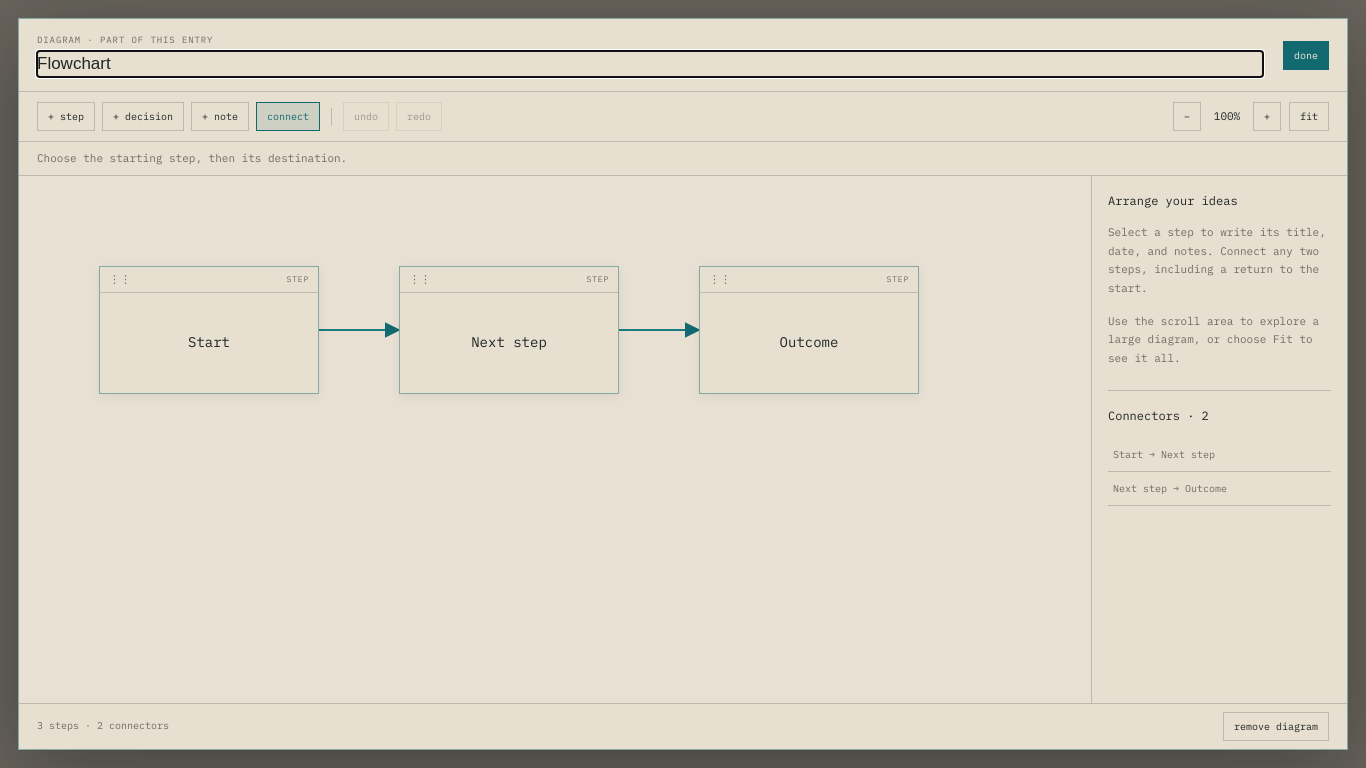
Scenario: diagram editing gestures and history › creates feedback and self-loop connectors and undoes step deletion with its edges
Earlier steps of the test are not shown.
Later steps or results of the test are not shown.
Click the button "Outcome" at point(809, 342), box 700,292 -> 918,392
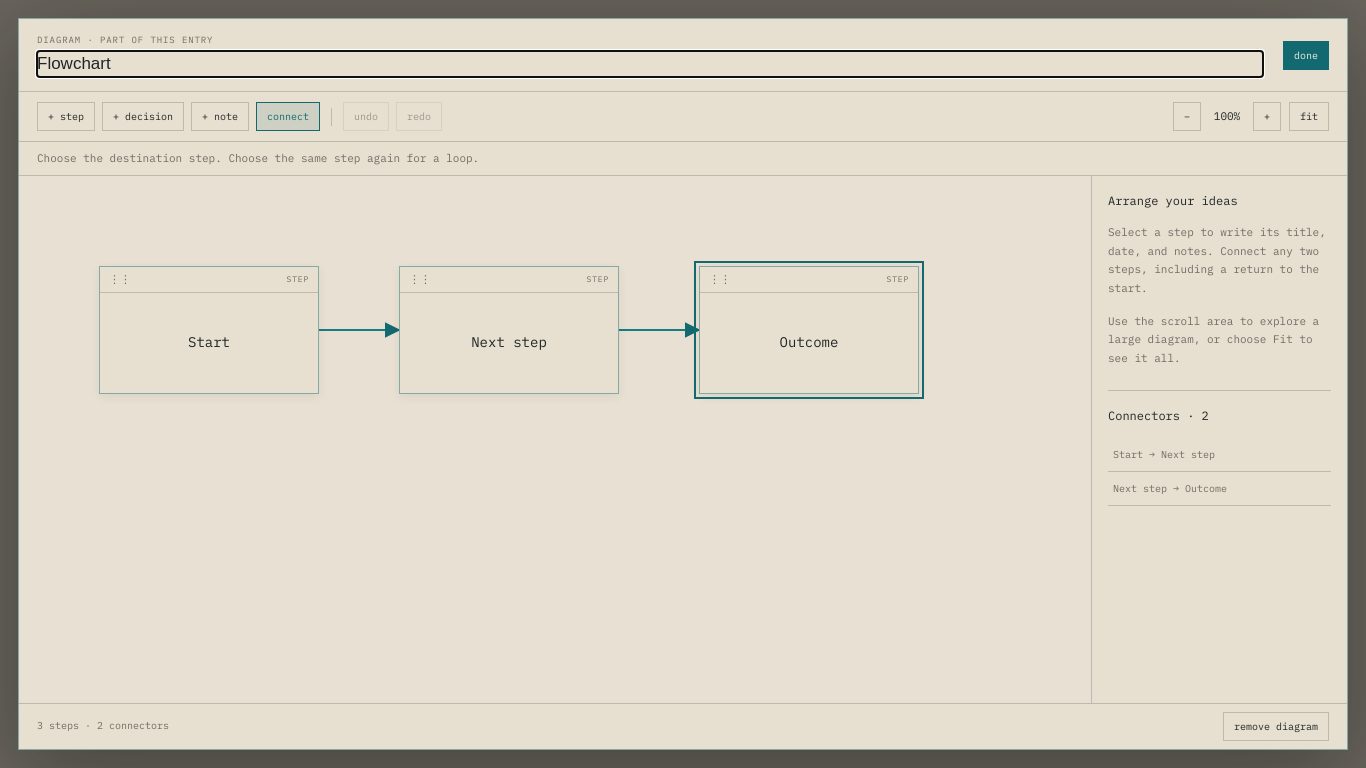
Click the button "Start" at point(209, 342), box 100,292 -> 318,392
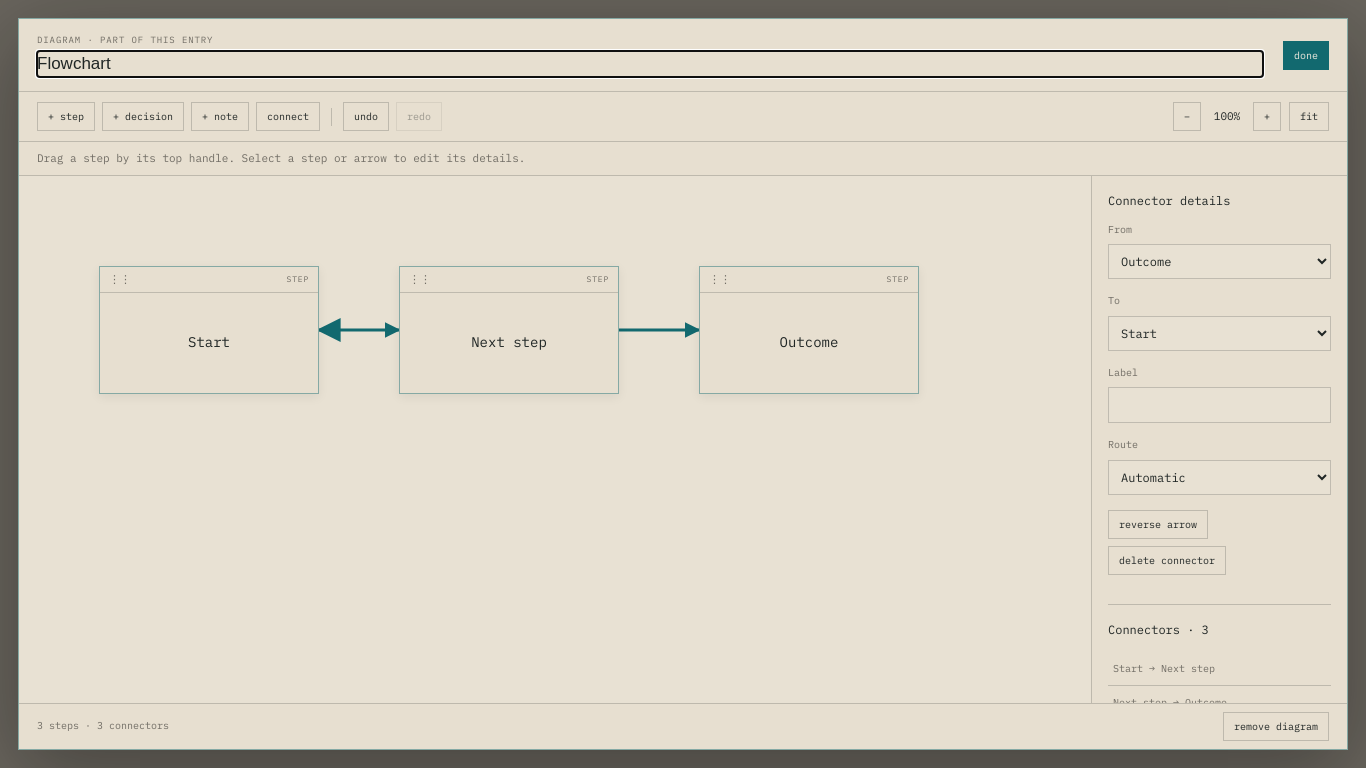
Click the button "connect" at point(288, 116), box 256,102 -> 320,131
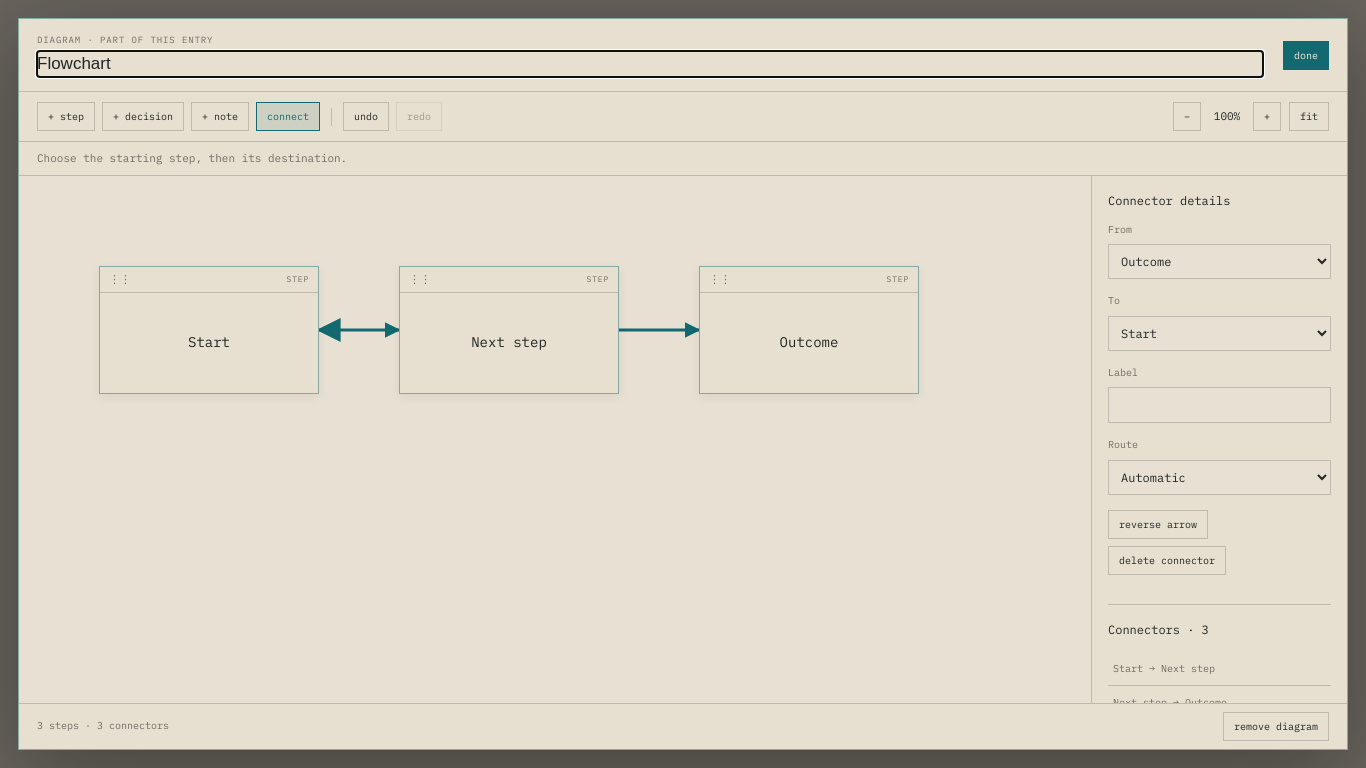
Click the button "Start" at point(209, 342), box 100,292 -> 318,392
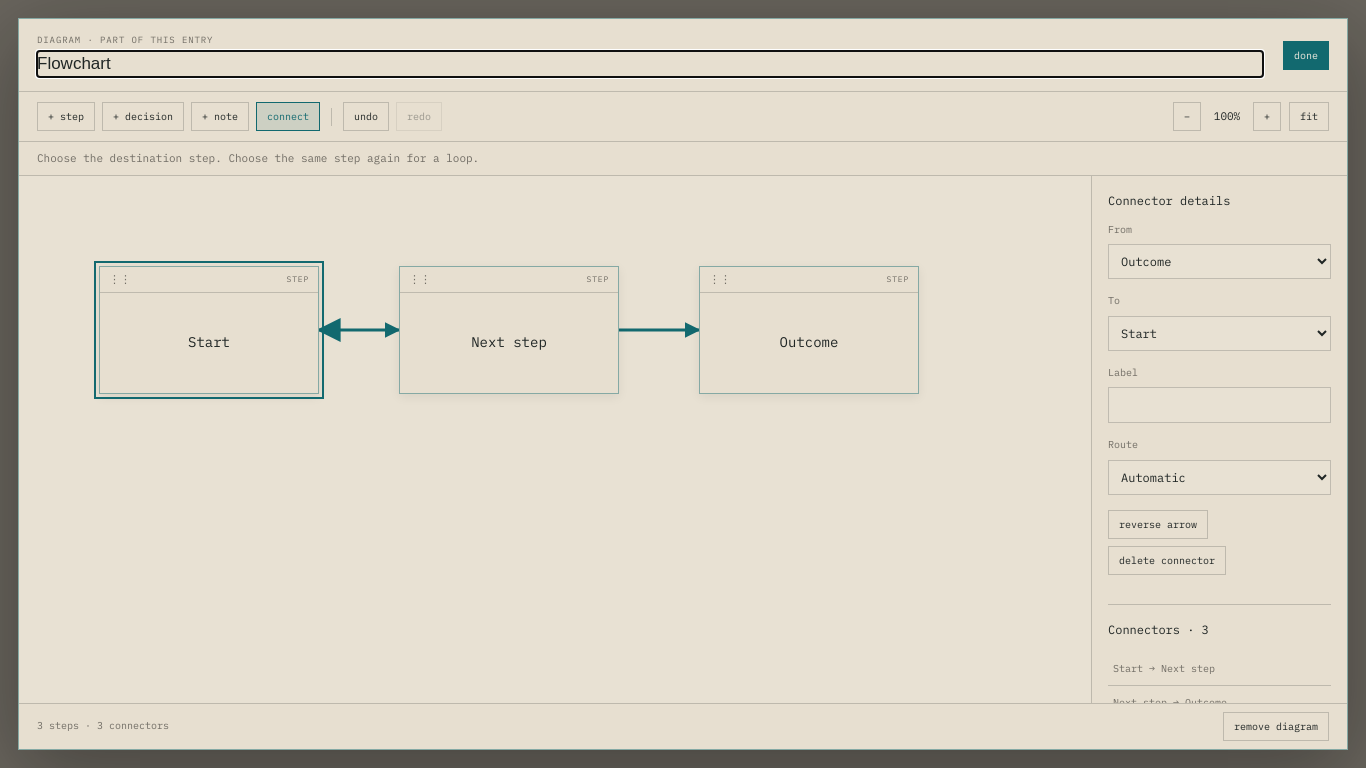
Click the button "Start" at point(209, 342), box 100,292 -> 318,392
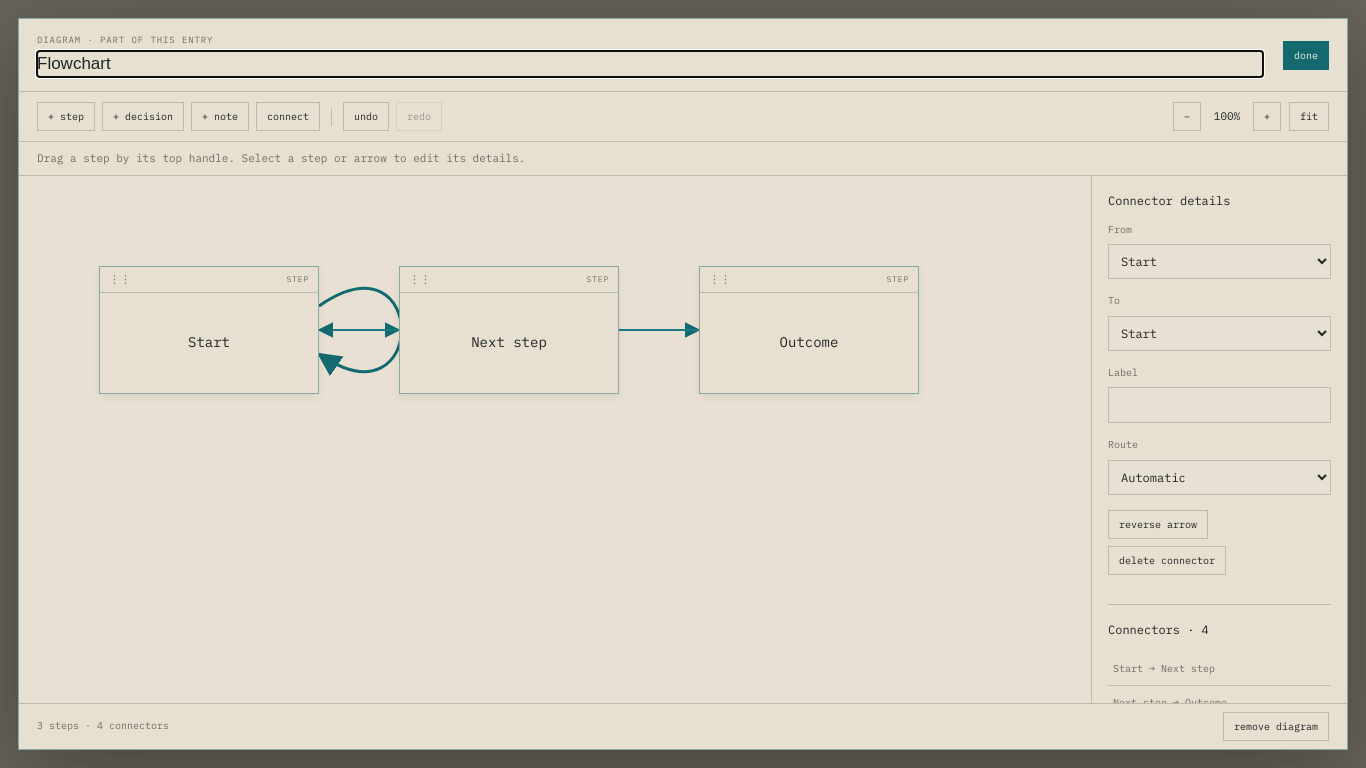
Click the button "Start" at point(209, 342), box 100,292 -> 318,392
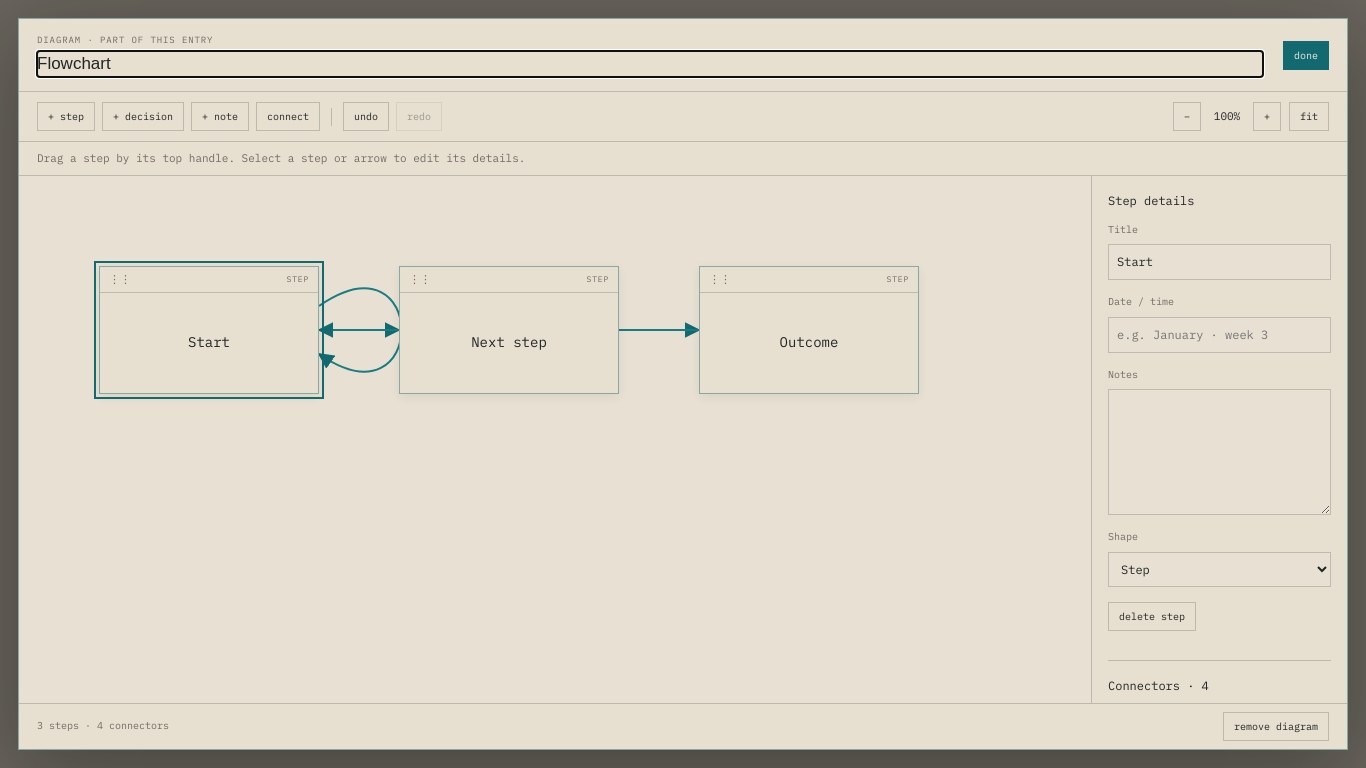
Expected: the button "delete step" is shown, 1108,602 -> 1196,631
